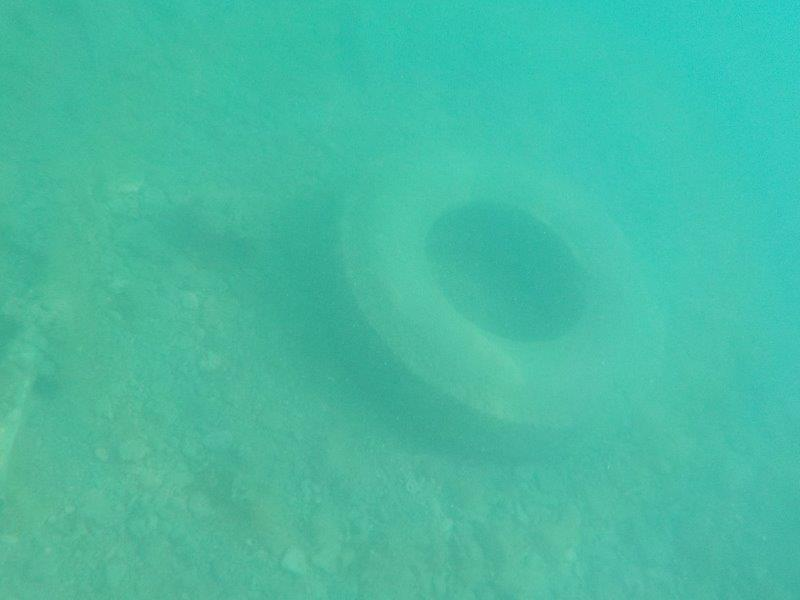tire: (306, 137, 686, 473)
